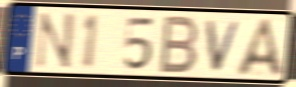1: (81, 12, 99, 71)
5: (121, 15, 157, 71)
A: (234, 17, 286, 80)
B: (157, 14, 201, 75)
N: (33, 11, 78, 71)
V: (205, 18, 245, 73)
